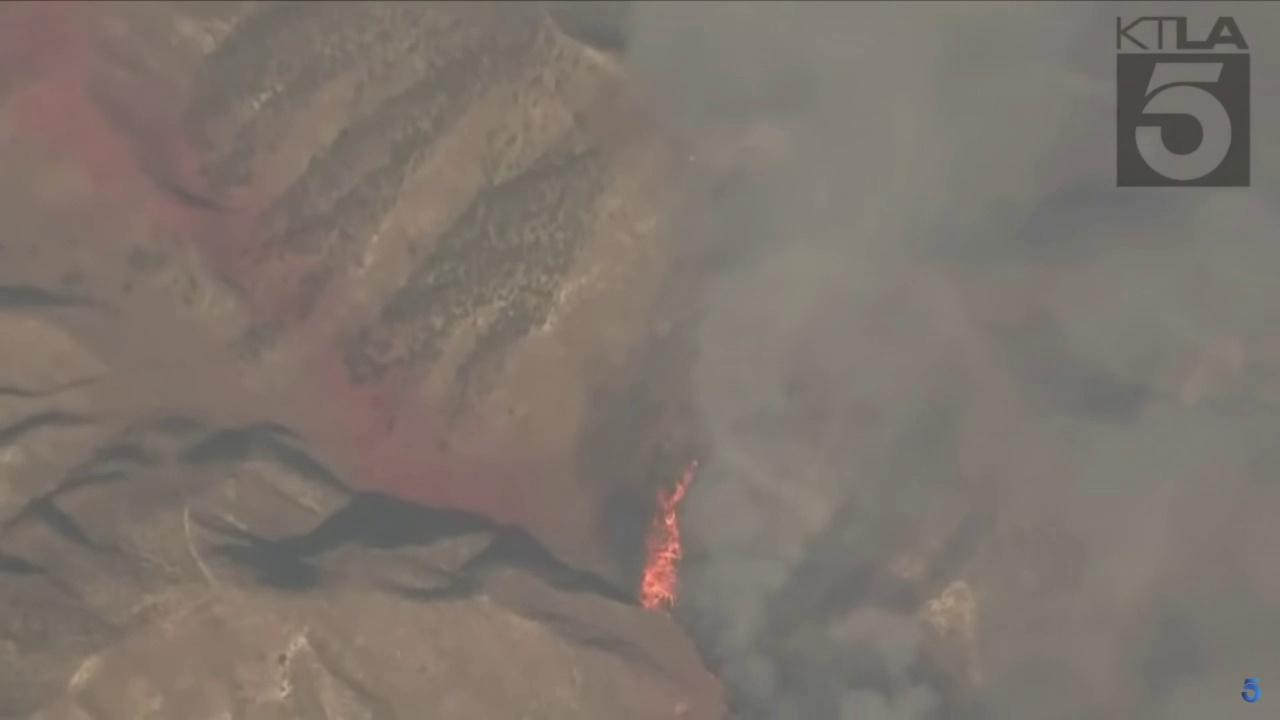fire: (637, 454, 702, 615)
smoke: (610, 0, 1280, 720)
